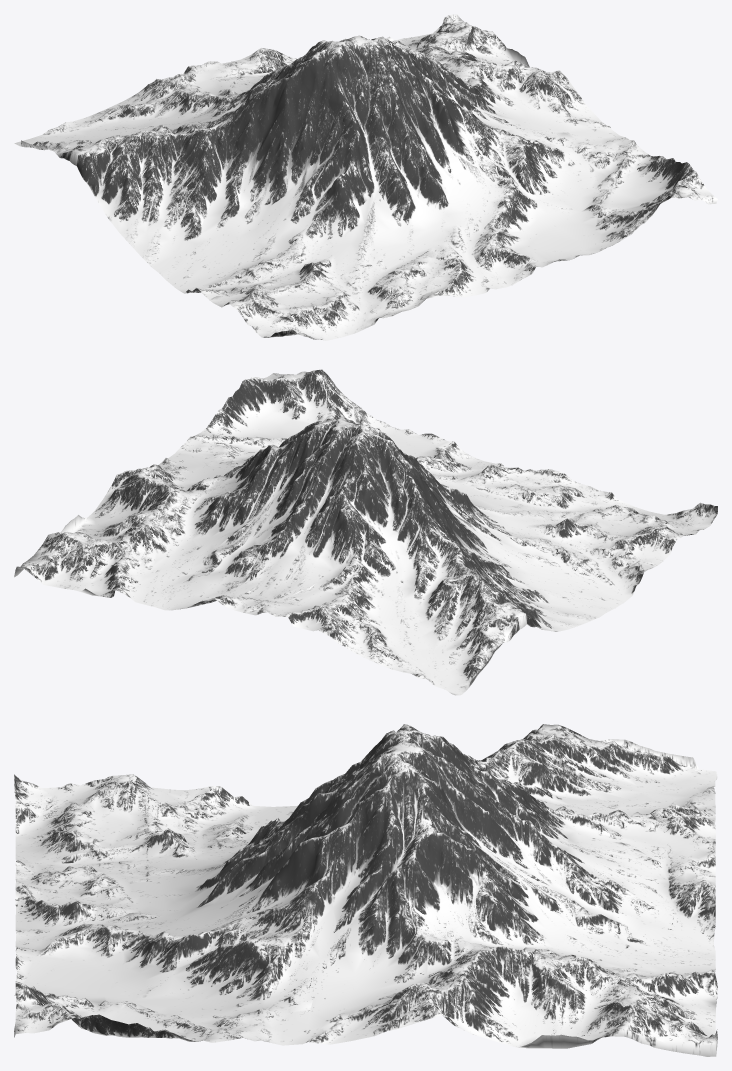
The model's file is mountain.dae.
3 renders of one model, top to bottom at view 1: azimuth 30°, elevation 25°; view 2: azimuth 150°, elevation 25°; view 3: azimuth 270°, elevation 25°, orthographic. The views are drawn at different scales.
Visible parts, largest first — view 1: Plane.001; view 2: Plane.001; view 3: Plane.001.
Part boxes in pixels (left/top/right/bottom): Plane.001: left=14, top=14, right=717, bottom=340; Plane.001: left=14, top=369, right=717, bottom=695; Plane.001: left=14, top=724, right=717, bottom=1056.
Size of the model in its own units: 15.84 by 15.84 by 5.4.
